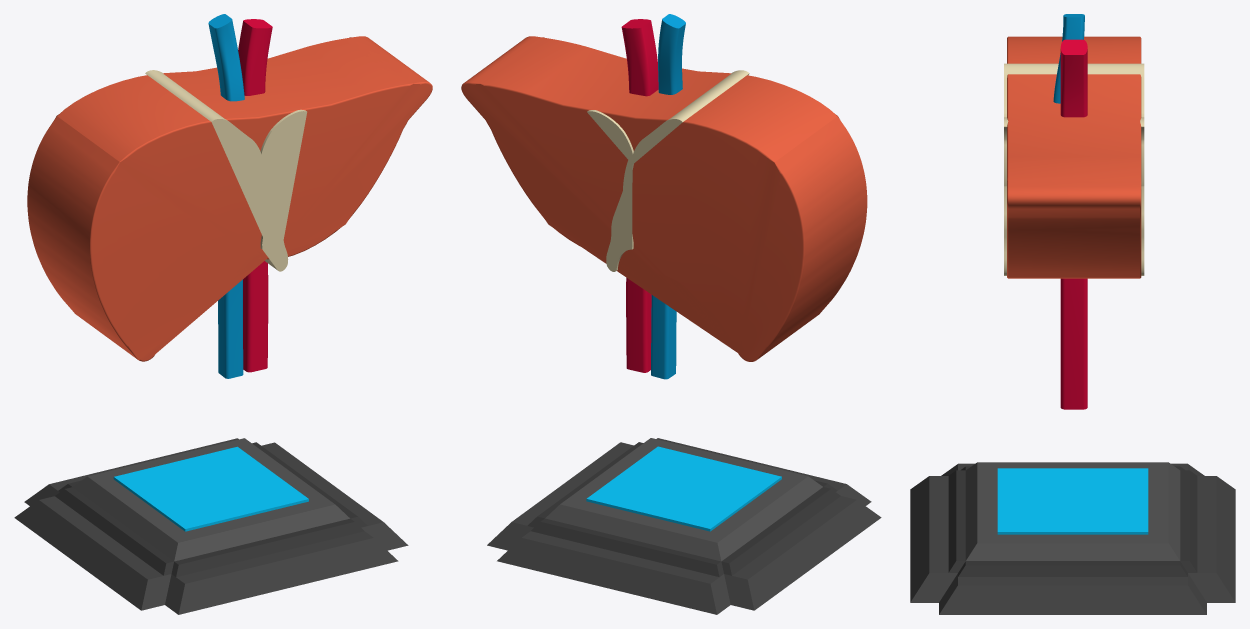
The model's file is Liver on Display.fbx.
3 renders of one model, left to right at view 1: azimuth 30°, elevation 25°; view 2: azimuth 150°, elevation 25°; view 3: azimuth 270°, elevation 25°, orthographic. The views are drawn at different scales.
Parts seen in each view (by area): view 1: Liver; view 2: Liver; view 3: Liver.
Part boxes in pixels (x1,y1,x2,y2): Liver: (14,14,432,614); Liver: (461,14,881,614); Liver: (910,14,1235,614).
Size of the model in its own units: 436 by 620 by 340.
